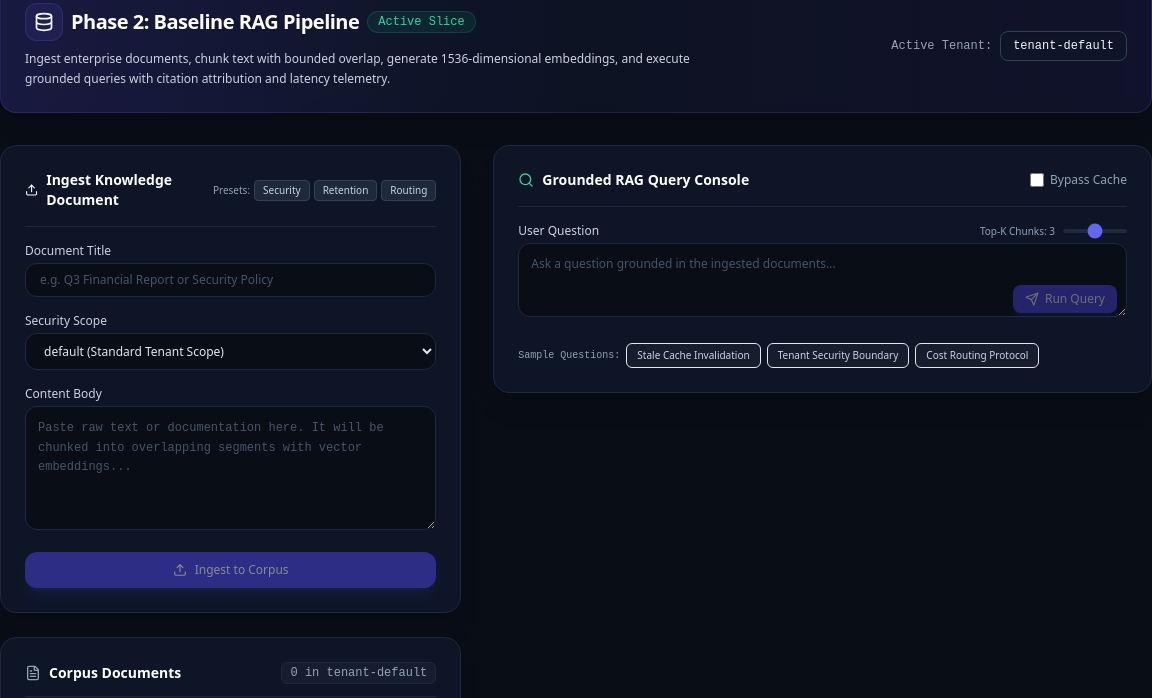
Scenario: RAGStudio Component › submits a query and displays grounded response with citations
Type "What is CachePilot?" into the text box with placeholder "Ask a question grounded in the ingested documents..." at (823, 280), box [518,243,1127,317]
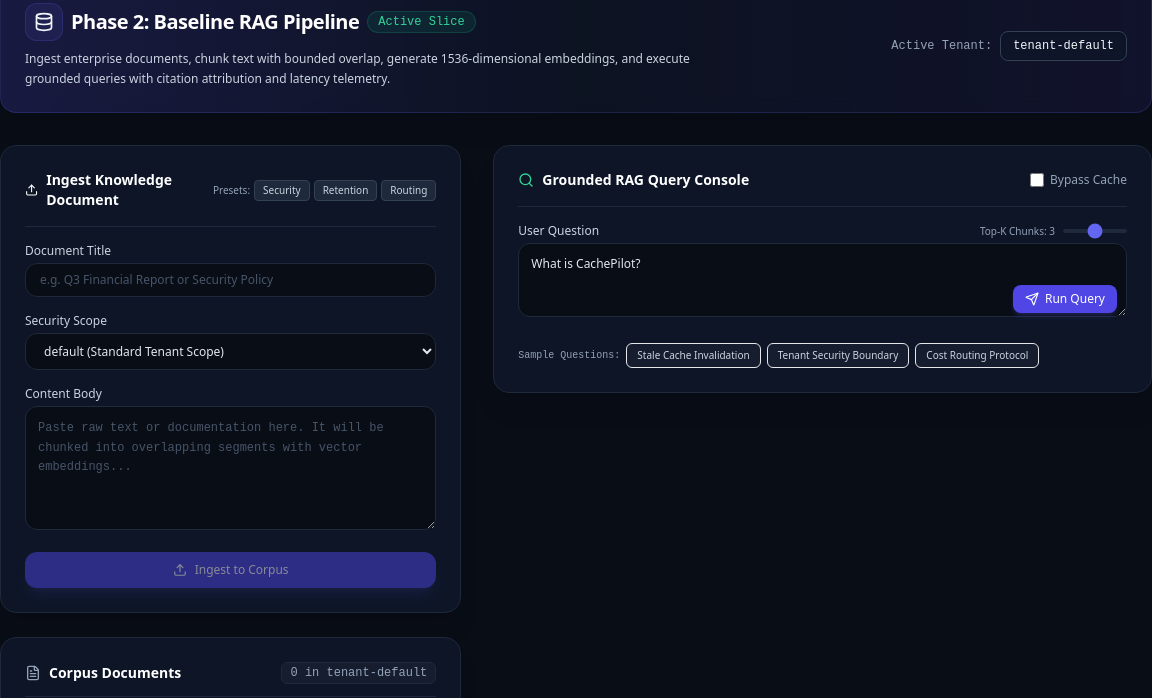
Click the button "Run Query" at (1065, 299), box [1013,285,1117,313]
(page scrolled)
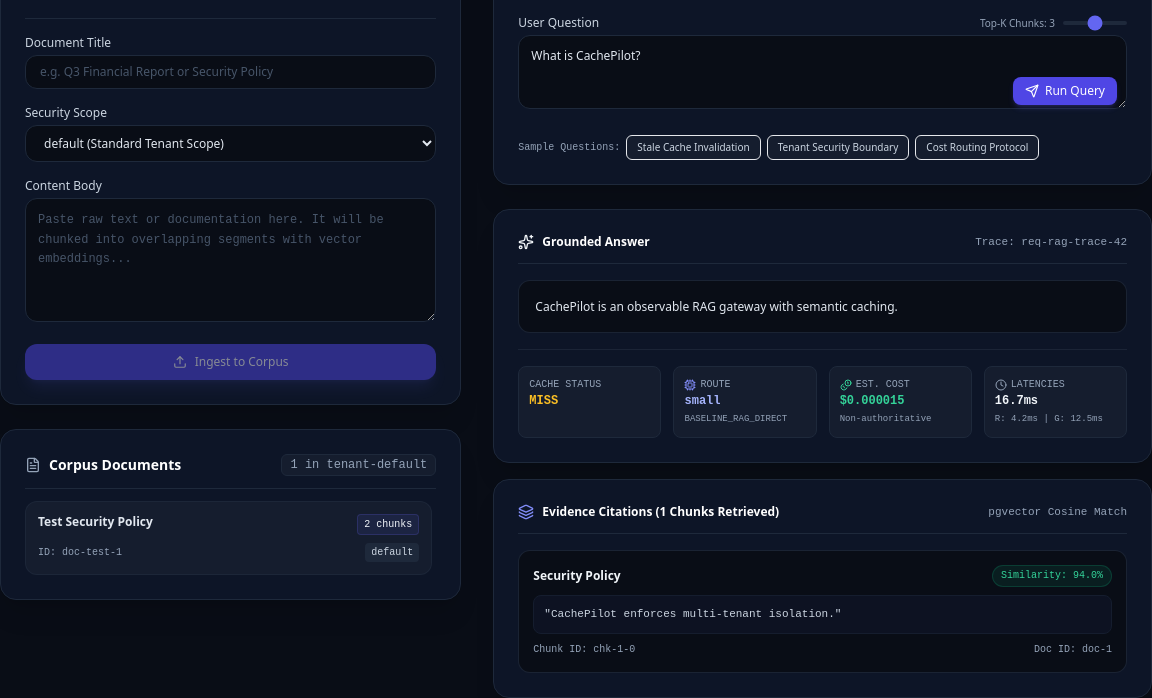
Result: the text "Grounded Answer" is shown at [542,234,650,250]
Result: the text "CachePilot is an observable RAG gateway" is shown at [535,298,898,314]
Result: the text "Trace: req-rag-trace-42" is shown at [975,234,1127,250]
